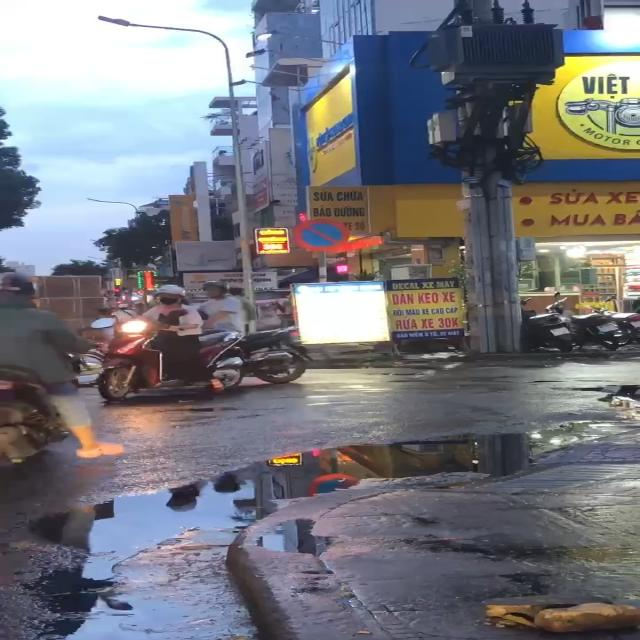Bien bao cam do xe: (292, 216, 354, 251)
